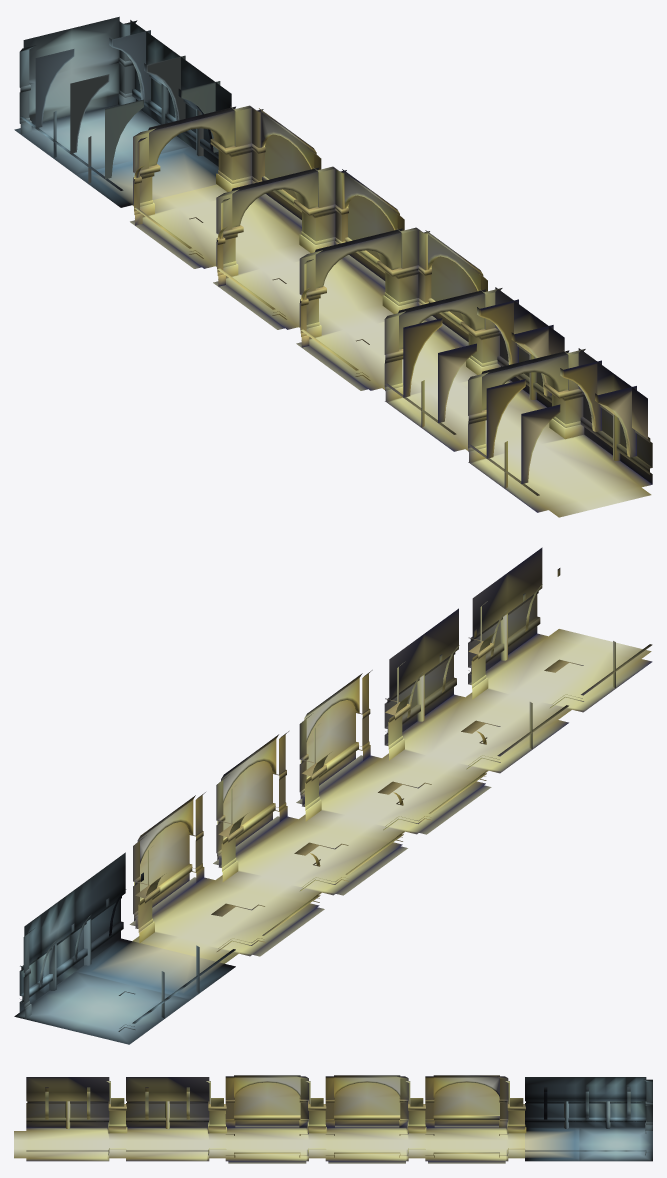
Rendered from 04HallC.gltf.
The picture shows the model from 3 angles, top to bottom: view 1: azimuth 30°, elevation 25°; view 2: azimuth 150°, elevation 25°; view 3: azimuth 270°, elevation 25°; orthographic projection. The views are drawn at different scales.
Parts seen in each view (by area): view 1: stg040_o37_Mesh_0011, stg040_o37_Mesh_0007, stg040_o37_Mesh_0014, stg040_o37_Mesh_0012, stg040_o37_Mesh_0004, stg040_o37_Mesh_0008, stg040_o37_Mesh_0006, stg040_o37_Mesh_0015, stg040_o37_Mesh_0013, stg040_o37_Mesh_0000, stg040_o37_Mesh_0001, stg040_o37_Mesh_0016 (+4 smaller); view 2: stg040_o37_Mesh_0014, stg040_o37_Mesh_0011, stg040_o37_Mesh_0004, stg040_o37_Mesh_0015, stg040_o37_Mesh_0012, stg040_o37_Mesh_0013, stg040_o37_Mesh_0008, stg040_o37_Mesh_0000, stg040_o37_Mesh_0016, stg040_o37_Mesh_0009, stg040_o37_Mesh_0007, stg040_o37_Mesh_0017 (+4 smaller); view 3: stg040_o37_Mesh_0011, stg040_o37_Mesh_0004, stg040_o37_Mesh_0014, stg040_o37_Mesh_0008, stg040_o37_Mesh_0012, stg040_o37_Mesh_0000, stg040_o37_Mesh_0015, stg040_o37_Mesh_0013, stg040_o37_Mesh_0007, stg040_o37_Mesh_0006, stg040_o37_Mesh_0016, stg040_o37_Mesh_0001 (+4 smaller).
Part boxes in pixels (x1=…): stg040_o37_Mesh_0011: x1=19, y1=16, x2=652, y2=512; stg040_o37_Mesh_0007: x1=35, y1=31, x2=636, y2=482; stg040_o37_Mesh_0014: x1=150, y1=200, x2=638, y2=508; stg040_o37_Mesh_0012: x1=14, y1=22, x2=652, y2=500; stg040_o37_Mesh_0004: x1=79, y1=148, x2=649, y2=510; stg040_o37_Mesh_0008: x1=19, y1=38, x2=629, y2=457; stg040_o37_Mesh_0006: x1=149, y1=110, x2=567, y2=408; stg040_o37_Mesh_0015: x1=125, y1=164, x2=604, y2=499; stg040_o37_Mesh_0013: x1=132, y1=184, x2=651, y2=517; stg040_o37_Mesh_0000: x1=20, y1=87, x2=652, y2=495; stg040_o37_Mesh_0001: x1=20, y1=93, x2=584, y2=462; stg040_o37_Mesh_0016: x1=17, y1=105, x2=188, y2=173; stg040_o37_Mesh_0014: x1=155, y1=638, x2=638, y2=951; stg040_o37_Mesh_0011: x1=20, y1=547, x2=652, y2=1030; stg040_o37_Mesh_0004: x1=79, y1=635, x2=649, y2=996; stg040_o37_Mesh_0015: x1=125, y1=646, x2=604, y2=985; stg040_o37_Mesh_0012: x1=14, y1=606, x2=607, y2=1044; stg040_o37_Mesh_0013: x1=132, y1=629, x2=651, y2=963; stg040_o37_Mesh_0008: x1=23, y1=568, x2=560, y2=1004; stg040_o37_Mesh_0000: x1=20, y1=616, x2=652, y2=1023; stg040_o37_Mesh_0016: x1=16, y1=972, x2=188, y2=1043; stg040_o37_Mesh_0009: x1=19, y1=594, x2=537, y2=994; stg040_o37_Mesh_0007: x1=140, y1=700, x2=355, y2=870; stg040_o37_Mesh_0017: x1=51, y1=986, x2=153, y2=1029; stg040_o37_Mesh_0011: x1=26, y1=1075, x2=652, y2=1161; stg040_o37_Mesh_0004: x1=29, y1=1097, x2=574, y2=1163; stg040_o37_Mesh_0014: x1=29, y1=1131, x2=505, y2=1158; stg040_o37_Mesh_0008: x1=26, y1=1087, x2=652, y2=1124; stg040_o37_Mesh_0012: x1=26, y1=1078, x2=652, y2=1161; stg040_o37_Mesh_0000: x1=26, y1=1115, x2=646, y2=1153; stg040_o37_Mesh_0015: x1=29, y1=1141, x2=574, y2=1147; stg040_o37_Mesh_0013: x1=14, y1=1131, x2=524, y2=1158; stg040_o37_Mesh_0007: x1=234, y1=1082, x2=499, y2=1097; stg040_o37_Mesh_0006: x1=234, y1=1077, x2=499, y2=1093; stg040_o37_Mesh_0016: x1=580, y1=1128, x2=651, y2=1160; stg040_o37_Mesh_0001: x1=108, y1=1120, x2=652, y2=1157.
Bounding box in the file's own units: 20.47 × 13.04 × 145.
